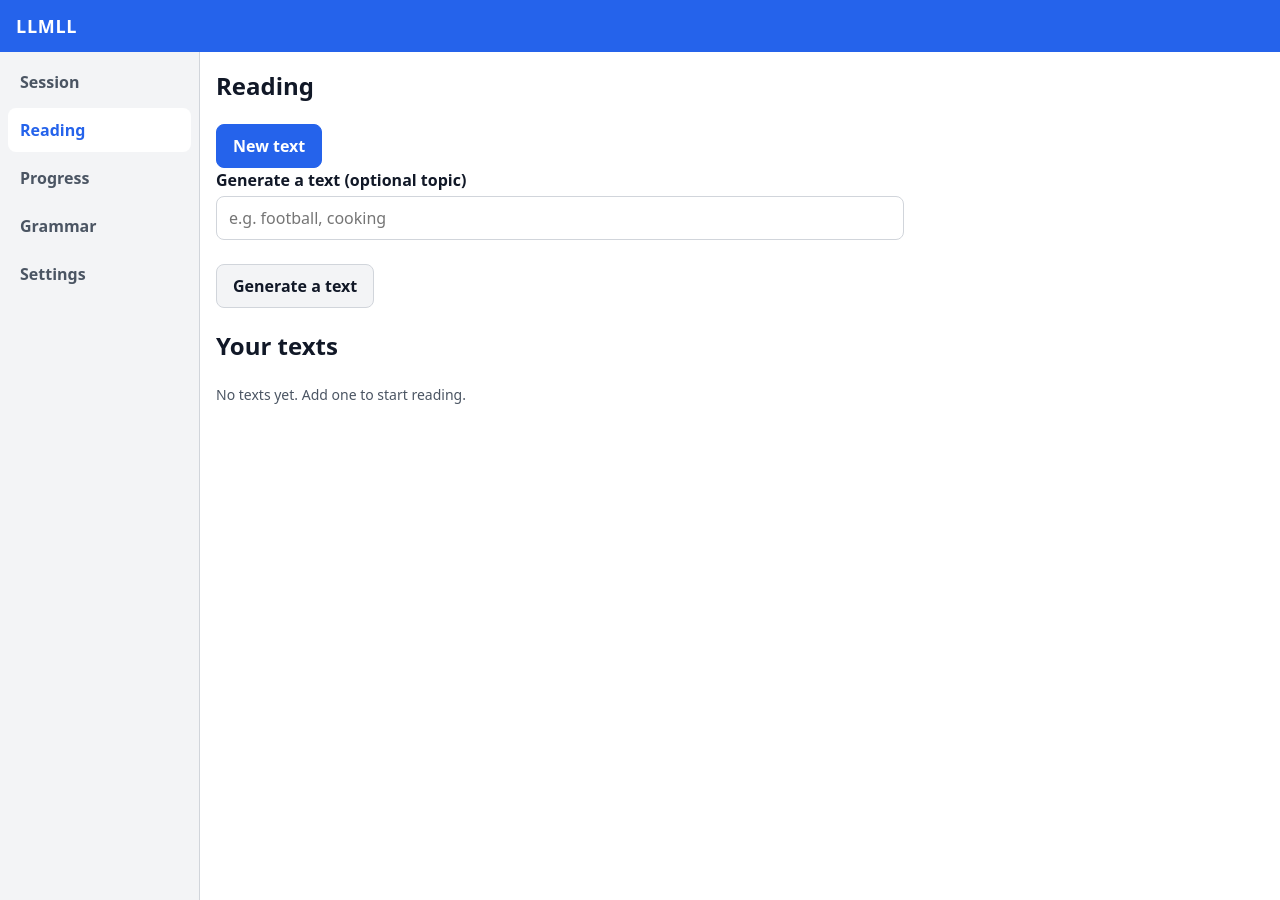
Scenario: Reading list and new text › offers a retry on 503
This screenshot has width=1280, height=900.
Step 1. Click the button "New text" → (269, 146), box [216,124,322,168]
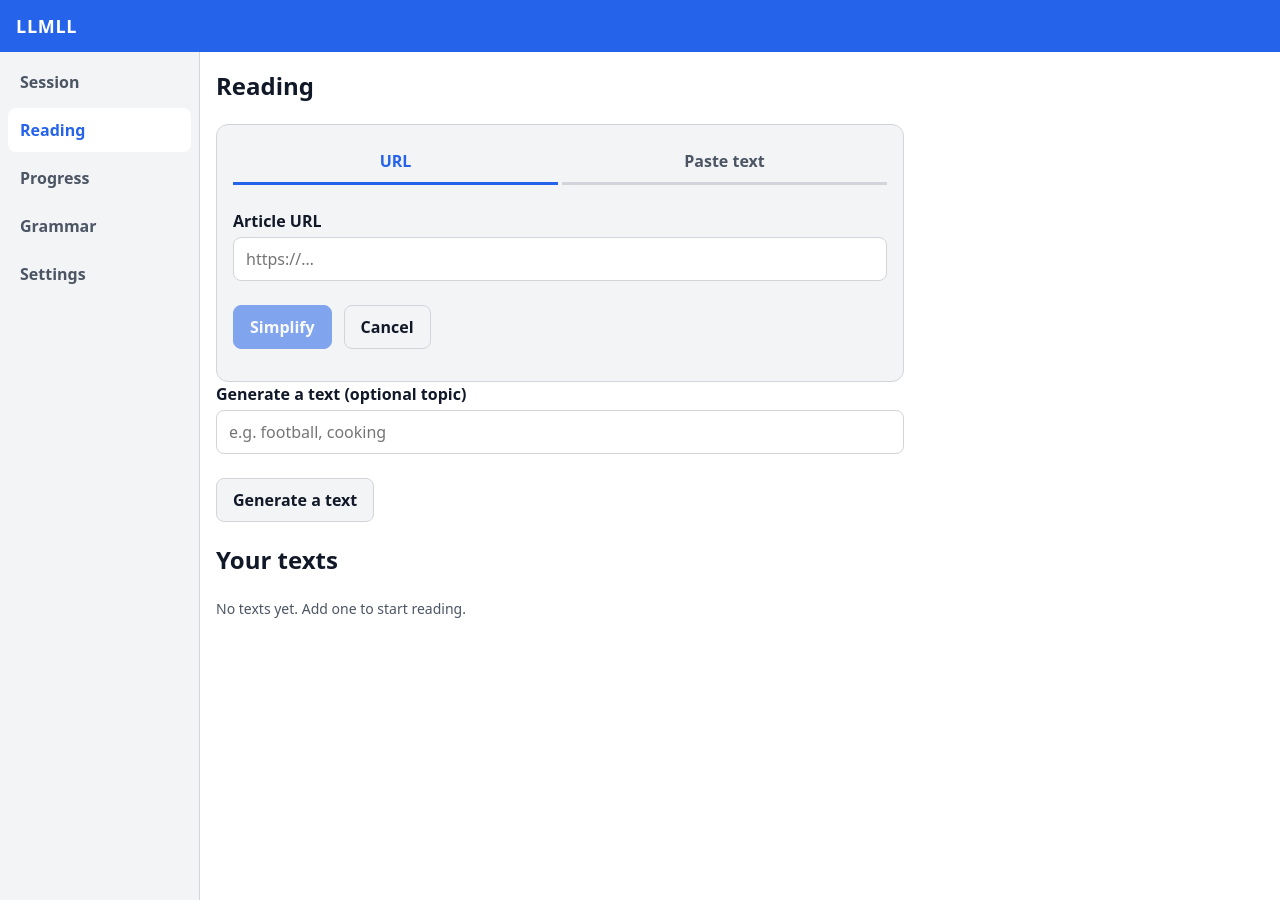
Step 2. Type "https://e.com/a" into the field labelled "Article URL" → (560, 259), box [233,237,887,281]
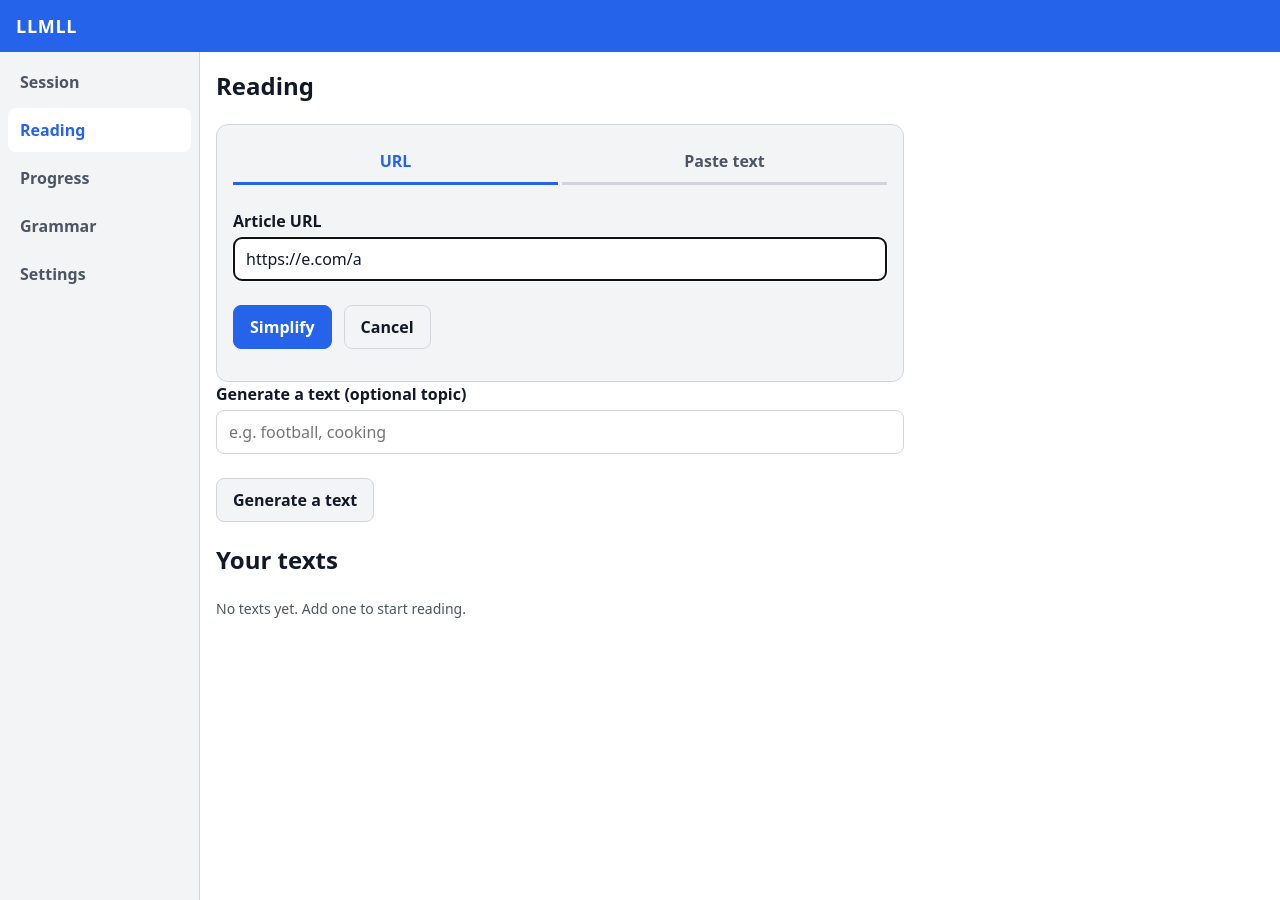
Step 3. Click the button "Simplify" → (282, 327), box [233,305,332,349]
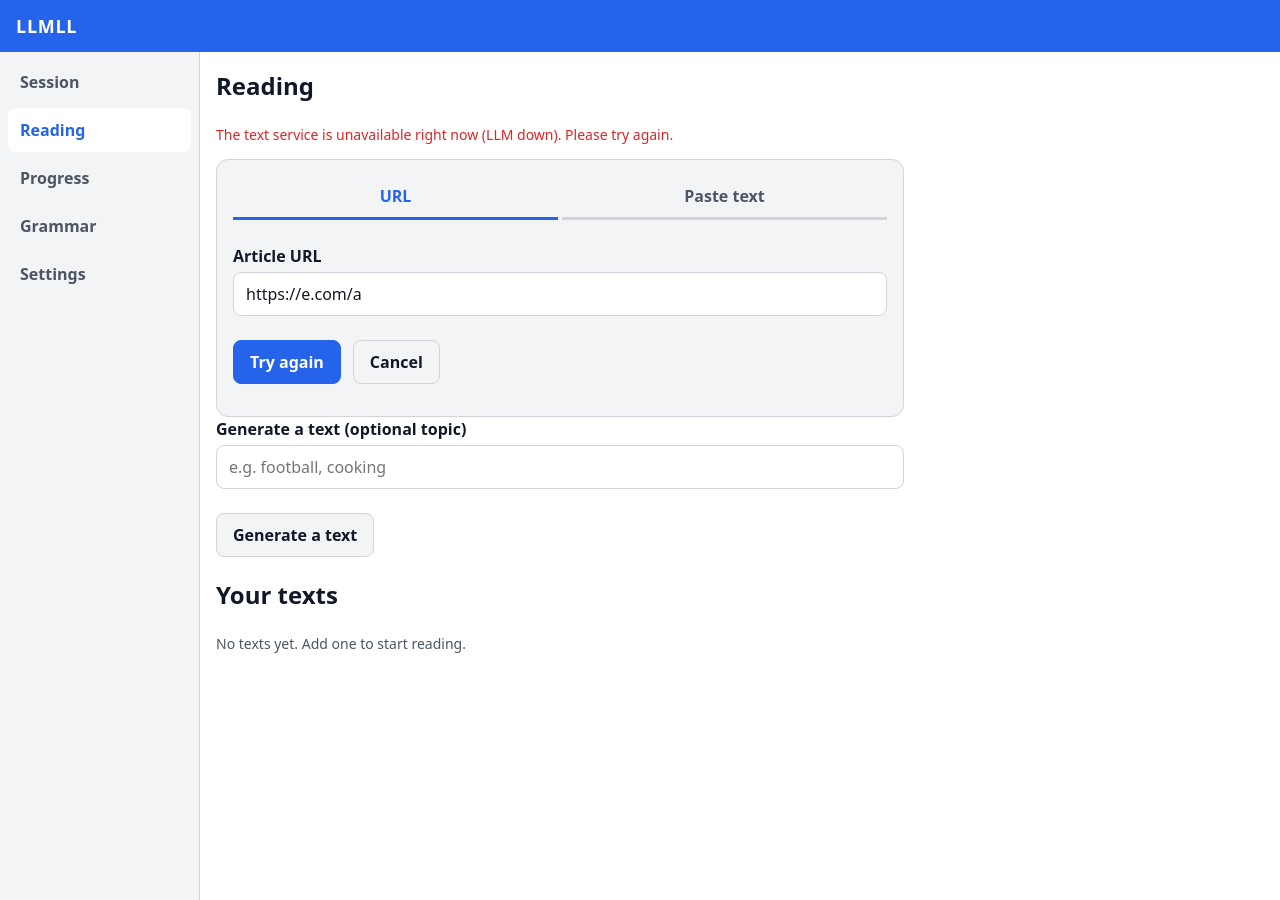
Expected: the button "Try again" is enabled, [233,340,341,384]
Expected: the message shows "try again", [216,125,673,144]
